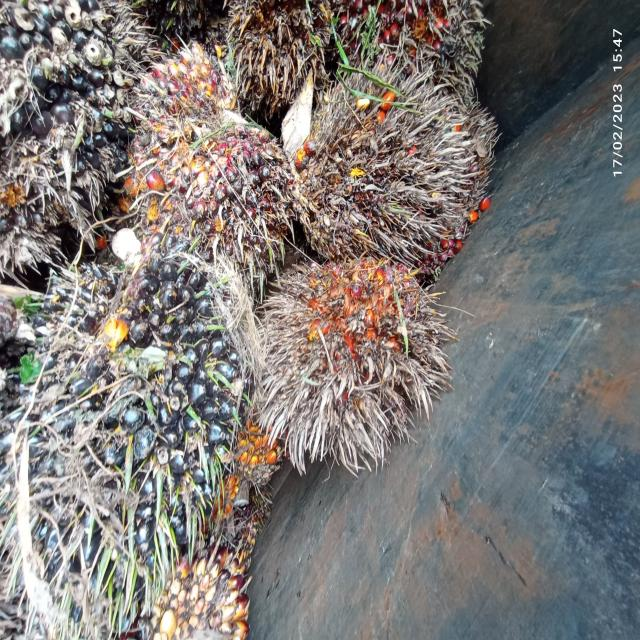fraksi 00: (0, 244, 276, 621), (1, 4, 173, 238), (125, 24, 287, 264)
fraksi 4: (241, 254, 462, 464)
